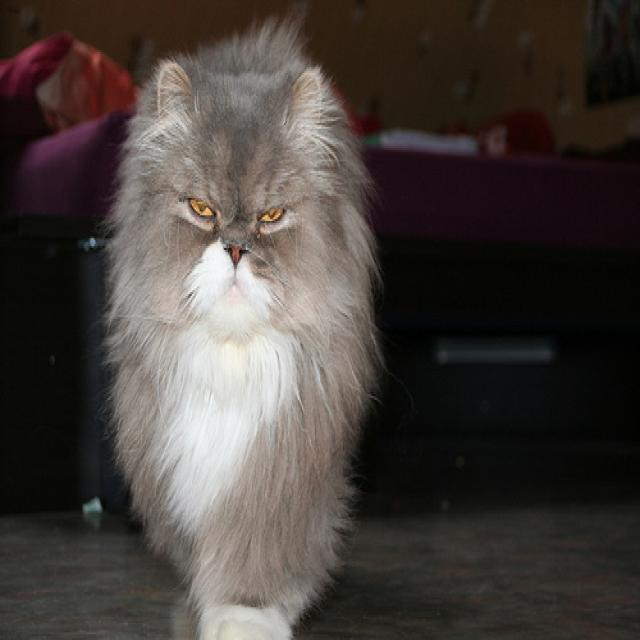cat: (154, 60, 318, 326)
